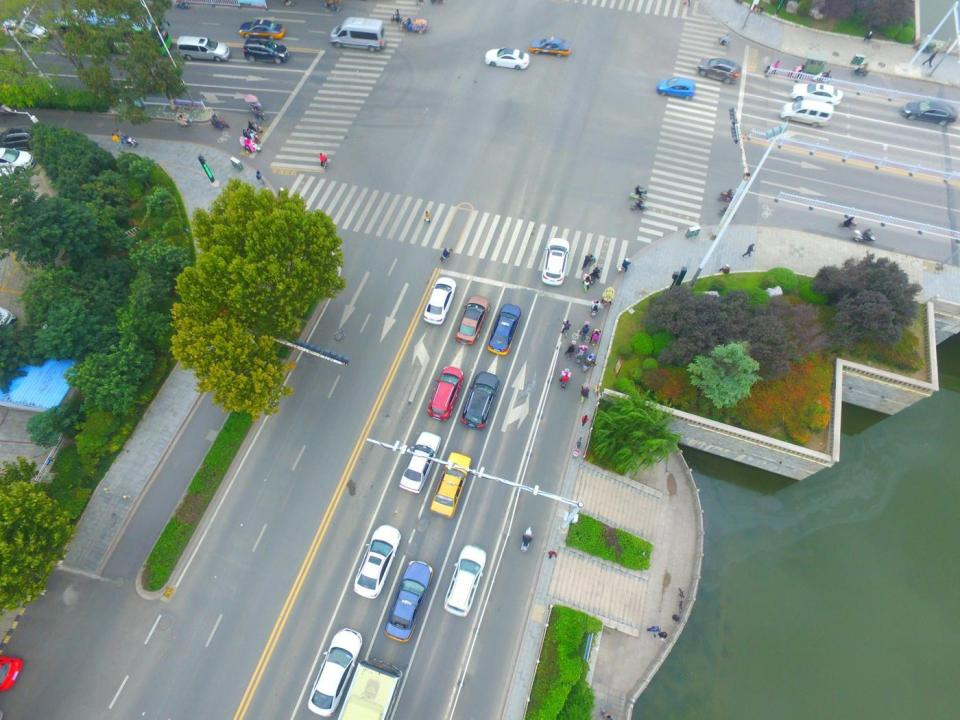bus: (53, 7, 172, 57)
car: (306, 626, 360, 716), (384, 556, 434, 644), (352, 524, 400, 600), (444, 545, 488, 617), (429, 451, 472, 517), (460, 371, 507, 430), (400, 431, 441, 494), (486, 304, 524, 356), (429, 364, 464, 420), (456, 295, 491, 345), (422, 278, 458, 326), (900, 100, 959, 128), (788, 81, 842, 109), (0, 17, 51, 46), (540, 237, 570, 286), (696, 56, 742, 85), (481, 47, 531, 70), (0, 125, 43, 151), (0, 144, 38, 171), (529, 36, 573, 58), (240, 20, 286, 40), (655, 77, 695, 99)
van: (328, 16, 387, 53), (777, 101, 834, 128), (176, 36, 231, 63), (240, 38, 289, 64)
